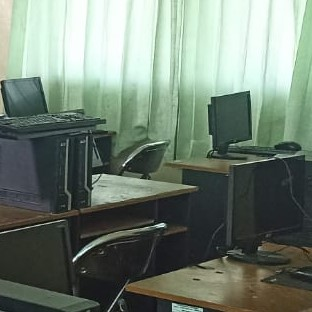monitor: (0, 129, 96, 213), (225, 156, 304, 253), (0, 77, 106, 133), (208, 91, 253, 155), (0, 77, 49, 118)
